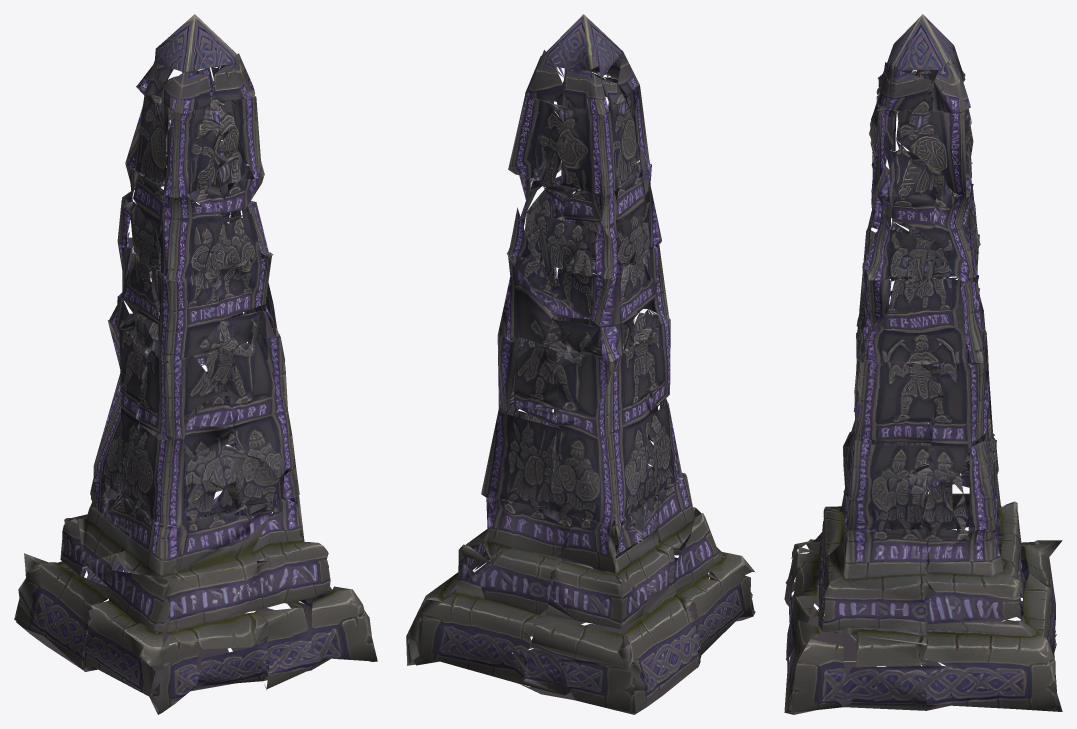
File: MarkerObelisk.fbx
3 renders of one model, left to right at view 1: azimuth 30°, elevation 25°; view 2: azimuth 150°, elevation 25°; view 3: azimuth 270°, elevation 25°, orthographic. The views are drawn at different scales.
Parts seen in each view (by area): view 1: MarkerObelisk_Body; view 2: MarkerObelisk_Body; view 3: MarkerObelisk_Body.
Boxes of the visible parts, bbox=[...] form: MarkerObelisk_Body: bbox=[14, 14, 377, 714]; MarkerObelisk_Body: bbox=[406, 14, 755, 714]; MarkerObelisk_Body: bbox=[784, 14, 1062, 714].
Size of the model in its own units: 0.3863 by 1 by 0.3916.
1 material, 1 textured.
